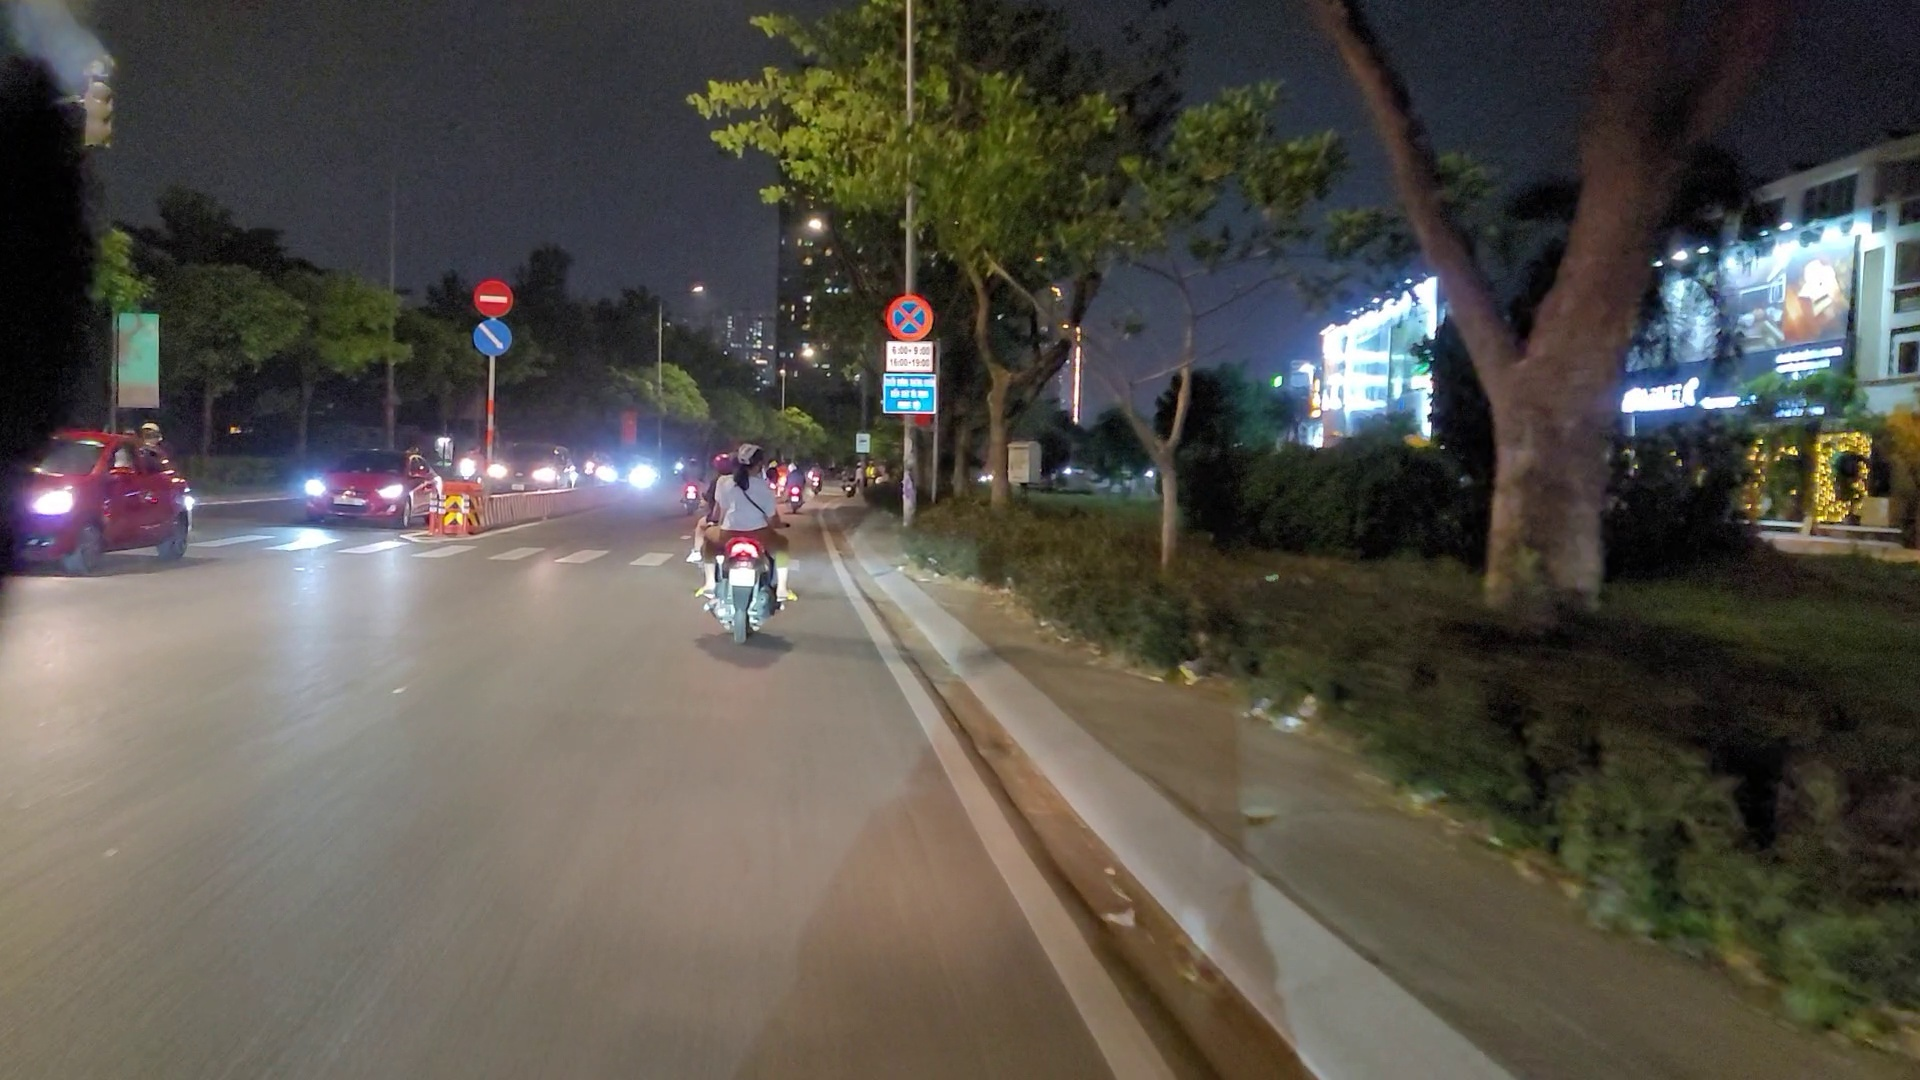Bien khac: (884, 291, 934, 339)
Cam di nguoc chieu: (473, 280, 514, 316)
Huong di phai re phai: (469, 319, 513, 353)
